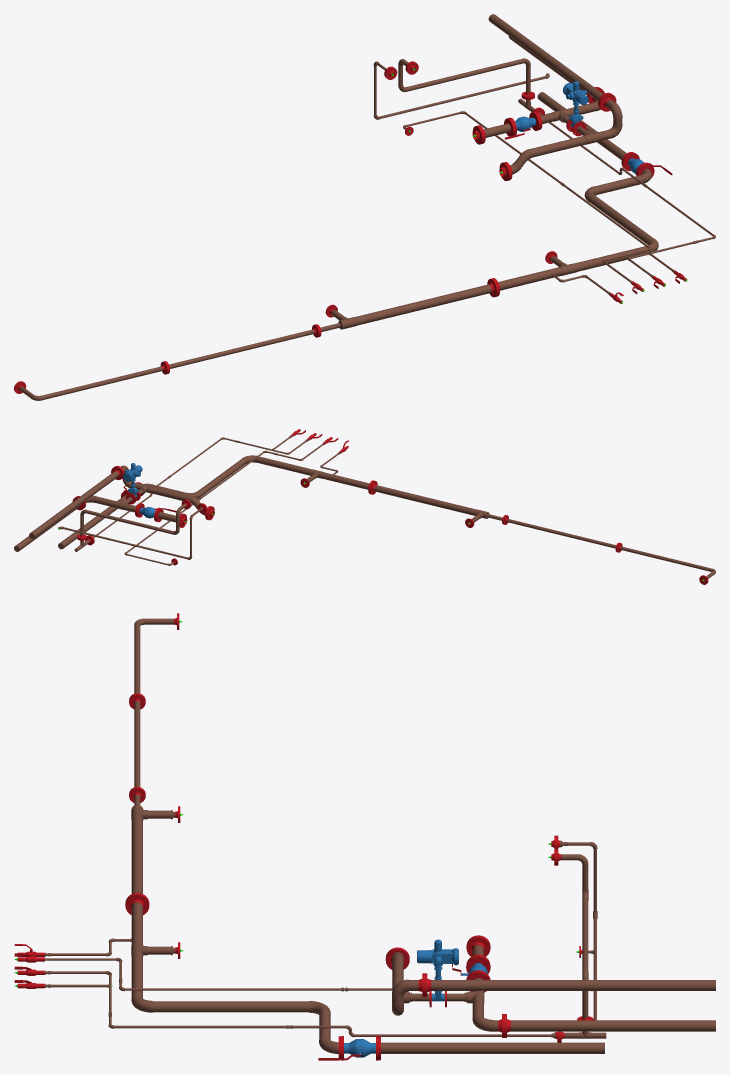
Rendered from Phase38a.fbx.
The picture shows the model from 3 angles, top to bottom: view 1: azimuth 30°, elevation 25°; view 2: azimuth 150°, elevation 25°; view 3: azimuth 270°, elevation 25°; orthographic projection. The views are drawn at different scales.
Parts seen in each view (by area): view 1: Типы трубопроводов:Труба 108х4-12х18н10т:1344409, Типы трубопроводов:Труба 108х4-12х18н10т:1297495, Типы трубопроводов:Труба 108х4-12х18н10т:1345689, Типы трубопроводов:Труба 108х4-12х18н10т:1341018, Типы трубопроводов:Труба 108х4-12х18н10т:1345833, Типы трубопроводов:Труба 108х4-12х18н10т:1308998, Типы трубопроводов:Труба 108х4-12х18н10т:1342080; view 2: Типы трубопроводов:Труба 108х4-12х18н10т:1297495, Типы трубопроводов:Труба 108х4-12х18н10т:1344409, Типы трубопроводов:Труба 108х4-12х18н10т:1345689, Типы трубопроводов:Труба 108х4-12х18н10т:1348305, Типы трубопроводов:Труба 108х4-12х18н10т:1341018, Типы трубопроводов:Труба 108х4-12х18н10т:1342254, Типы трубопроводов:Труба 108х4-12х18н10т:1345833, Типы трубопроводов:Труба 108х4-12х18н10т:1308998, Типы трубопроводов:Труба 108х4-12х18н10т:1342080, Типы трубопроводов:Труба 108х4-12х18н10т:1333338, Задвижка Клиновая с электроприводом:ABRA-A4016-BS-065 EAGZ3x, Типы трубопроводов:Труба 108х4-12х18н10т:1351881; view 3: Типы трубопроводов:Труба 108х4-12х18н10т:1297495, Типы трубопроводов:Труба 108х4-12х18н10т:1348305, Типы трубопроводов:Труба 108х4-12х18н10т:1294351, Типы трубопроводов:Труба 108х4-12х18н10т:1341018, Задвижка Клиновая с электроприводом:ABRA-A4016-BS-065 EAGZ3x, Типы трубопроводов:Труба 108х4-12х18н10т:1344409.
Part boxes in pixels (left/top/right/bottom): Типы трубопроводов:Труба 108х4-12х18н10т:1344409: left=356, top=284, right=491, bottom=325; Типы трубопроводов:Труба 108х4-12х18н10т:1297495: left=488, top=14, right=603, bottom=100; Типы трубопроводов:Труба 108х4-12х18н10т:1345689: left=169, top=329, right=314, bottom=368; Типы трубопроводов:Труба 108х4-12х18н10т:1341018: left=587, top=194, right=653, bottom=244; Типы трубопроводов:Труба 108х4-12х18н10т:1345833: left=42, top=366, right=162, bottom=399; Типы трубопроводов:Труба 108х4-12х18н10т:1308998: left=406, top=59, right=523, bottom=91; Типы трубопроводов:Труба 108х4-12х18н10т:1342080: left=498, top=267, right=562, bottom=290; Типы трубопроводов:Труба 108х4-12х18н10т:1297495: left=29, top=471, right=118, bottom=538; Типы трубопроводов:Труба 108х4-12х18н10т:1344409: left=374, top=485, right=476, bottom=515; Типы трубопроводов:Труба 108х4-12х18н10т:1345689: left=507, top=519, right=616, bottom=548; Типы трубопроводов:Труба 108х4-12х18н10т:1348305: left=58, top=494, right=126, bottom=549; Типы трубопроводов:Труба 108х4-12х18н10т:1341018: left=198, top=458, right=247, bottom=496; Типы трубопроводов:Труба 108х4-12х18н10т:1342254: left=255, top=456, right=311, bottom=475; Типы трубопроводов:Труба 108х4-12х18н10т:1345833: left=620, top=546, right=711, bottom=571; Типы трубопроводов:Труба 108х4-12х18н10т:1308998: left=85, top=510, right=173, bottom=534; Типы трубопроводов:Труба 108х4-12х18н10т:1342080: left=321, top=472, right=369, bottom=489; Типы трубопроводов:Труба 108х4-12х18н10т:1333338: left=62, top=527, right=187, bottom=559; Задвижка Клиновая с электроприводом:ABRA-A4016-BS-065 EAGZ3x: left=123, top=463, right=142, bottom=497; Типы трубопроводов:Труба 108х4-12х18н10т:1351881: left=149, top=486, right=190, bottom=500; Типы трубопроводов:Труба 108х4-12х18н10т:1297495: left=431, top=980, right=715, bottom=990; Типы трубопроводов:Труба 108х4-12х18н10т:1348305: left=381, top=1042, right=604, bottom=1053; Типы трубопроводов:Труба 108х4-12х18н10т:1294351: left=511, top=1020, right=715, bottom=1031; Типы трубопроводов:Труба 108х4-12х18н10т:1341018: left=153, top=1001, right=308, bottom=1012; Задвижка Клиновая с электроприводом:ABRA-A4016-BS-065 EAGZ3x: left=417, top=939, right=458, bottom=1001; Типы трубопроводов:Труба 108х4-12х18н10т:1344409: left=131, top=814, right=142, bottom=893.
Bounding box in the file's own units: 10073 × 6722 × 1247.
